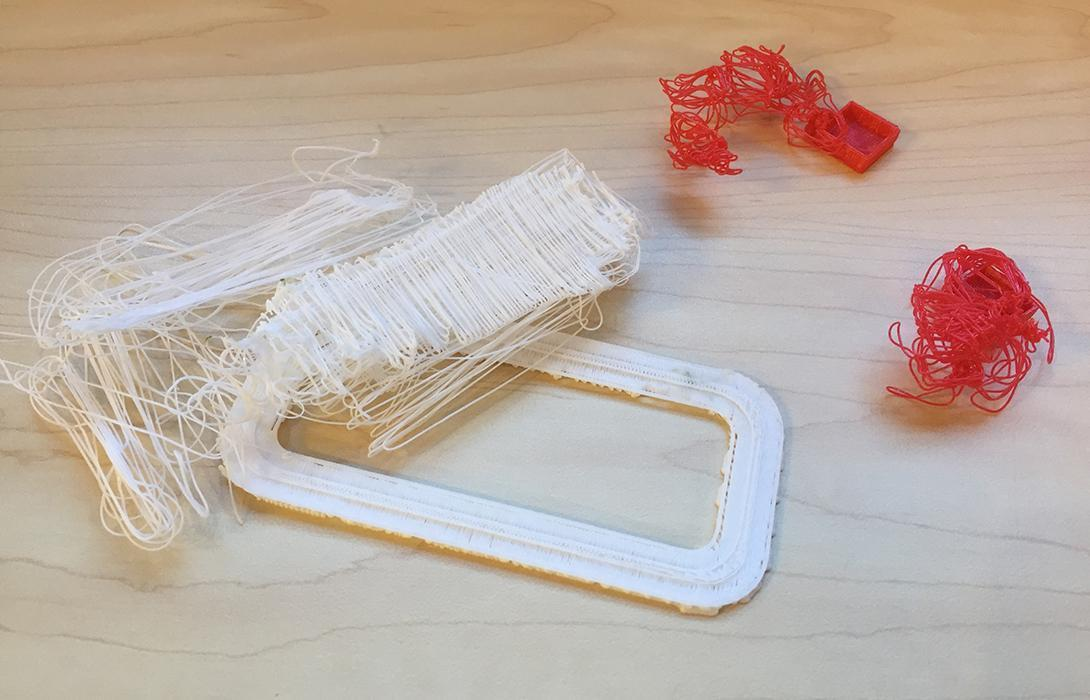Spaghetti: (213, 162, 529, 451), (7, 227, 215, 543), (876, 208, 1066, 455), (220, 419, 789, 488), (663, 38, 828, 183), (464, 303, 746, 370), (533, 140, 621, 320), (720, 364, 776, 558), (848, 89, 903, 177)
